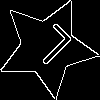L: (22, 22, 74, 74)
